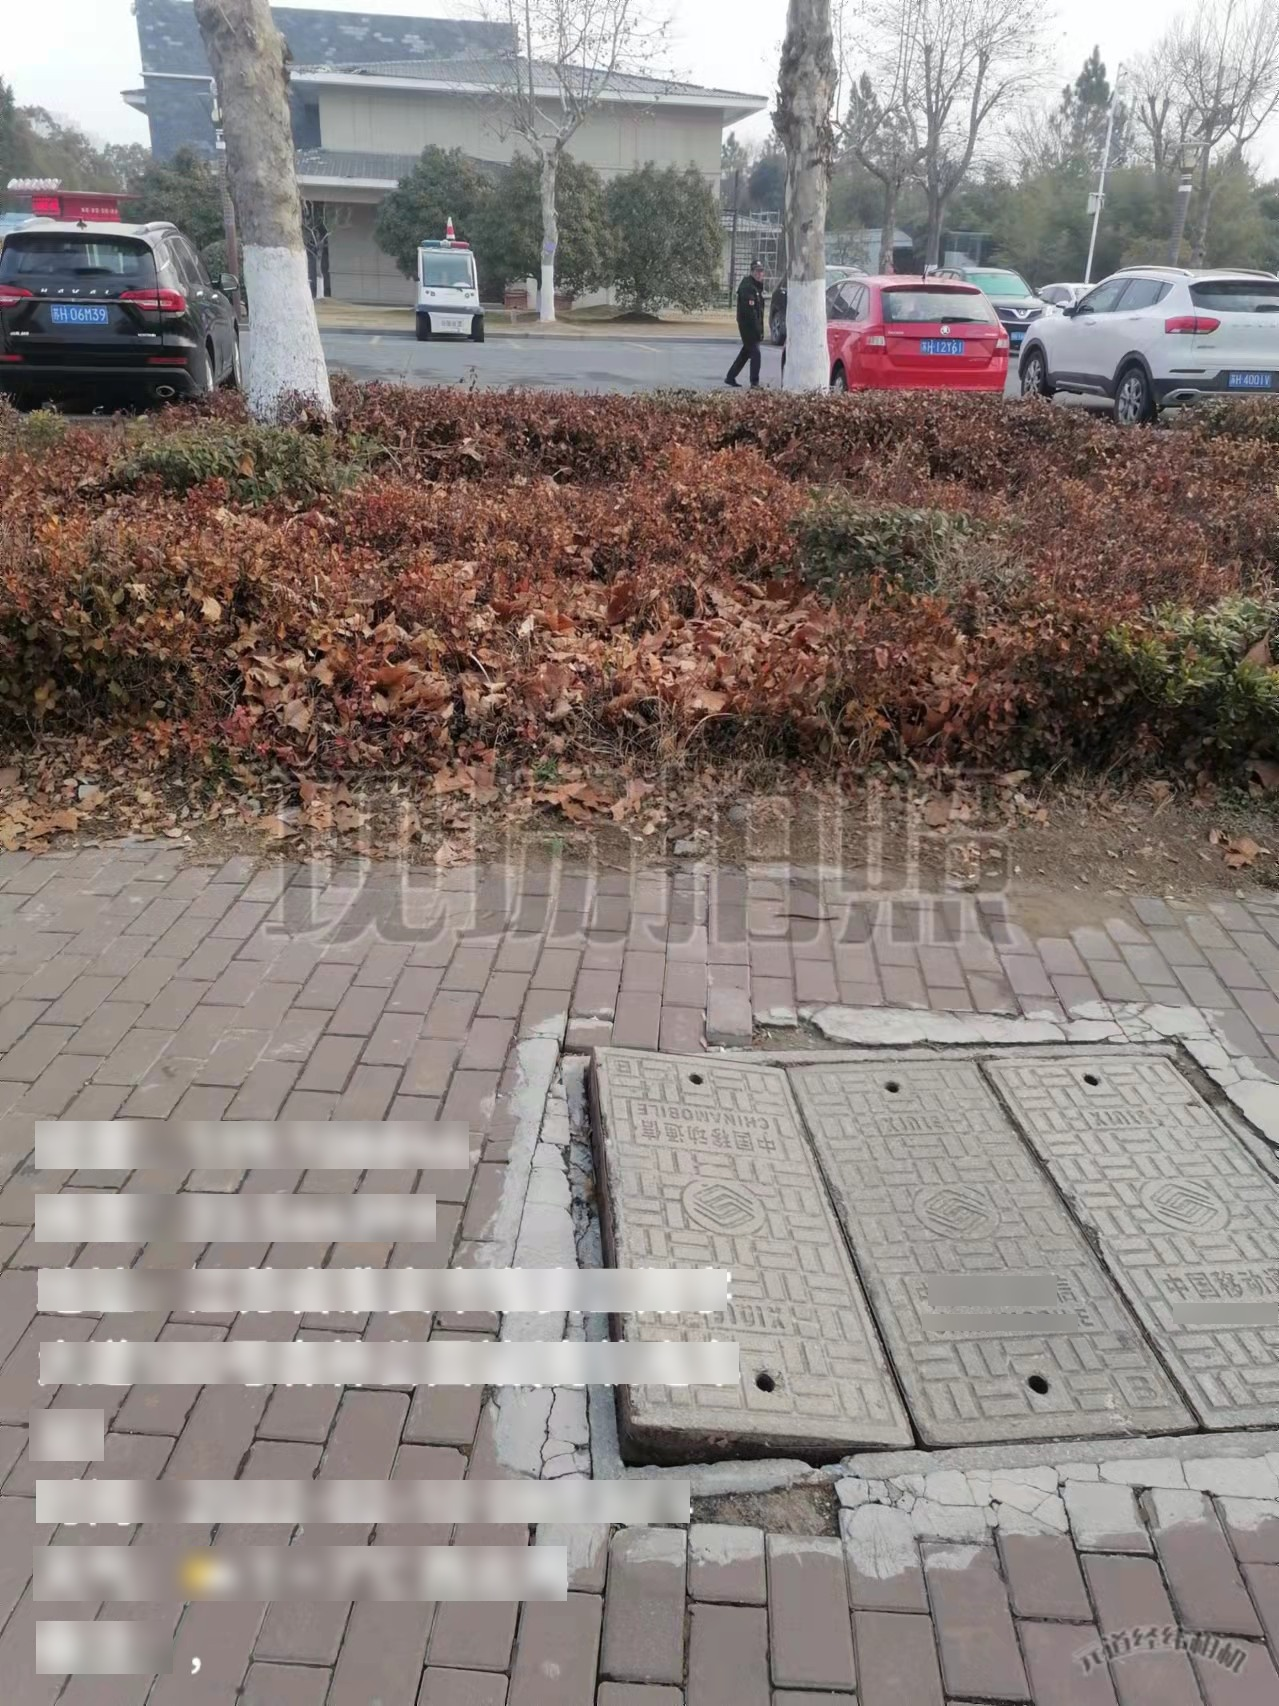uncovered: (566, 1032, 1279, 1496)
